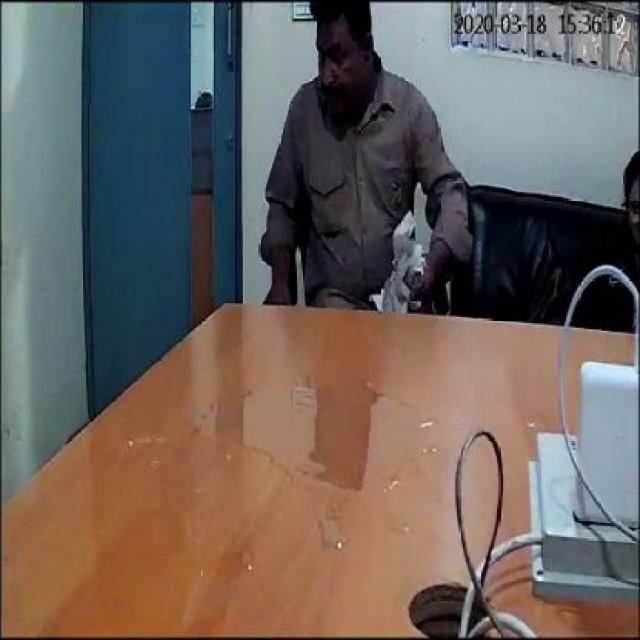spill: (140, 372, 446, 552)
